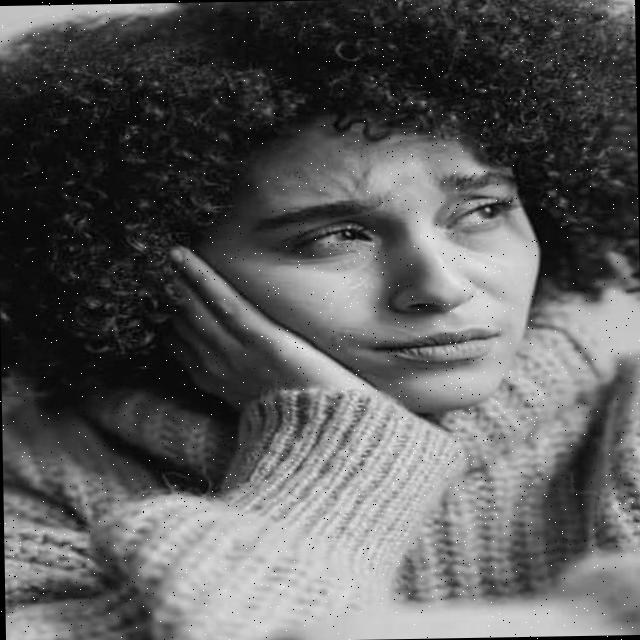Sadness: (236, 100, 542, 412)
